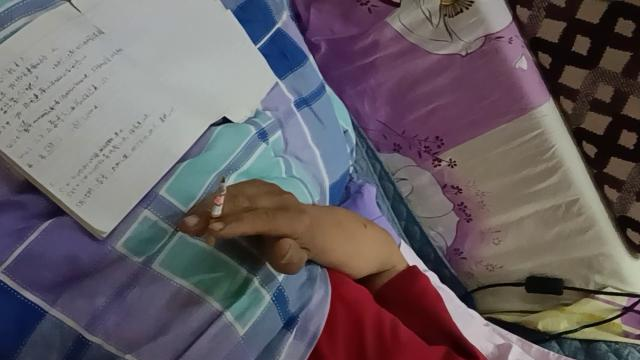Cigarette: (205, 176, 228, 246)
